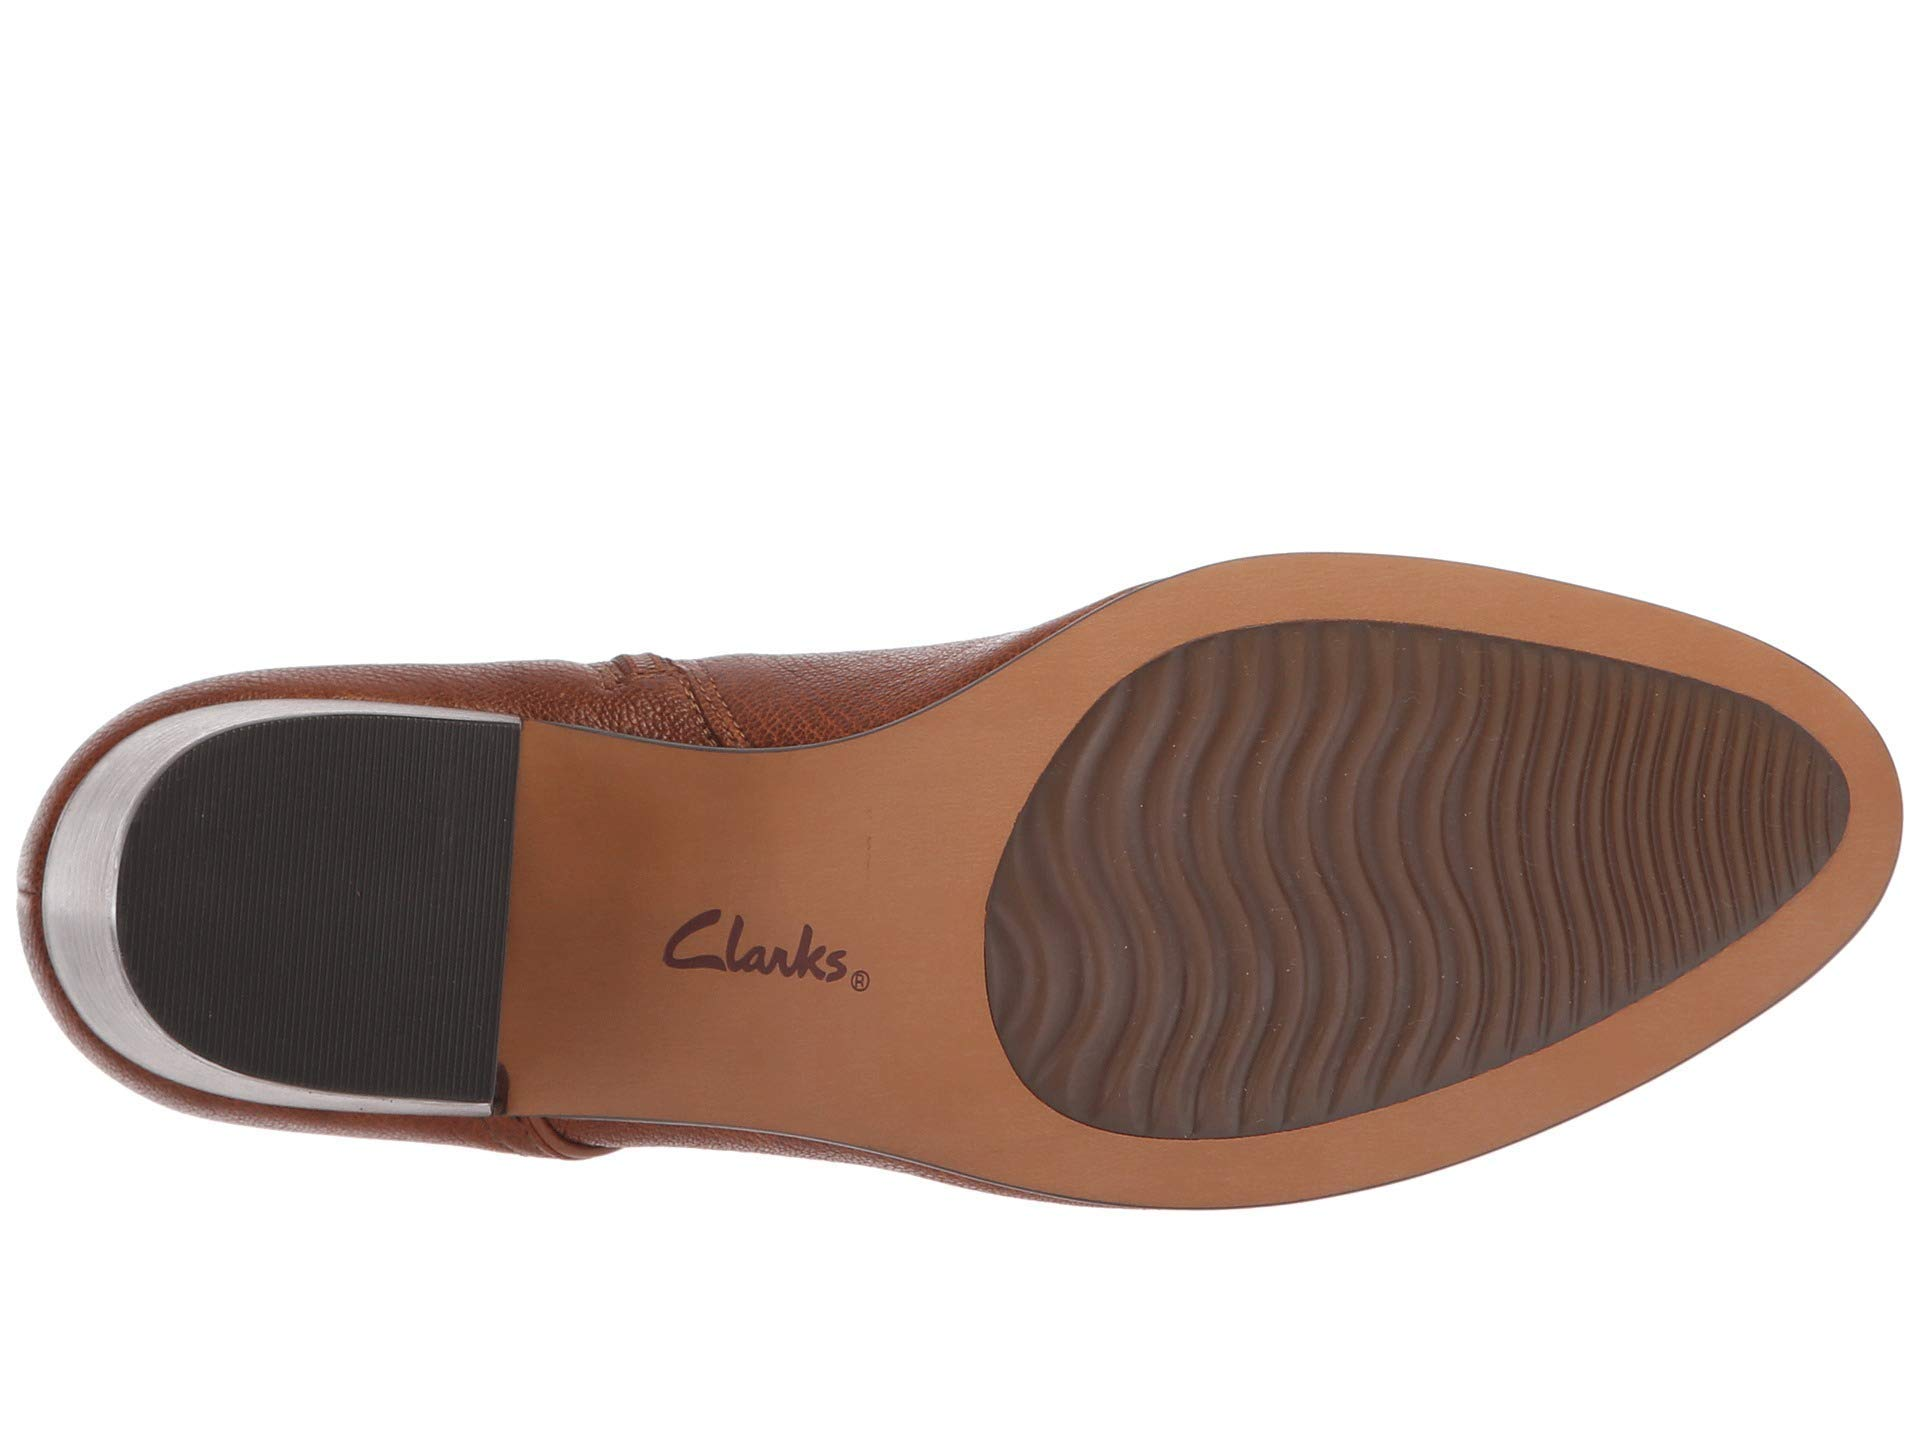chevron: (987, 616, 1503, 1141)
line: (116, 715, 522, 1101)
